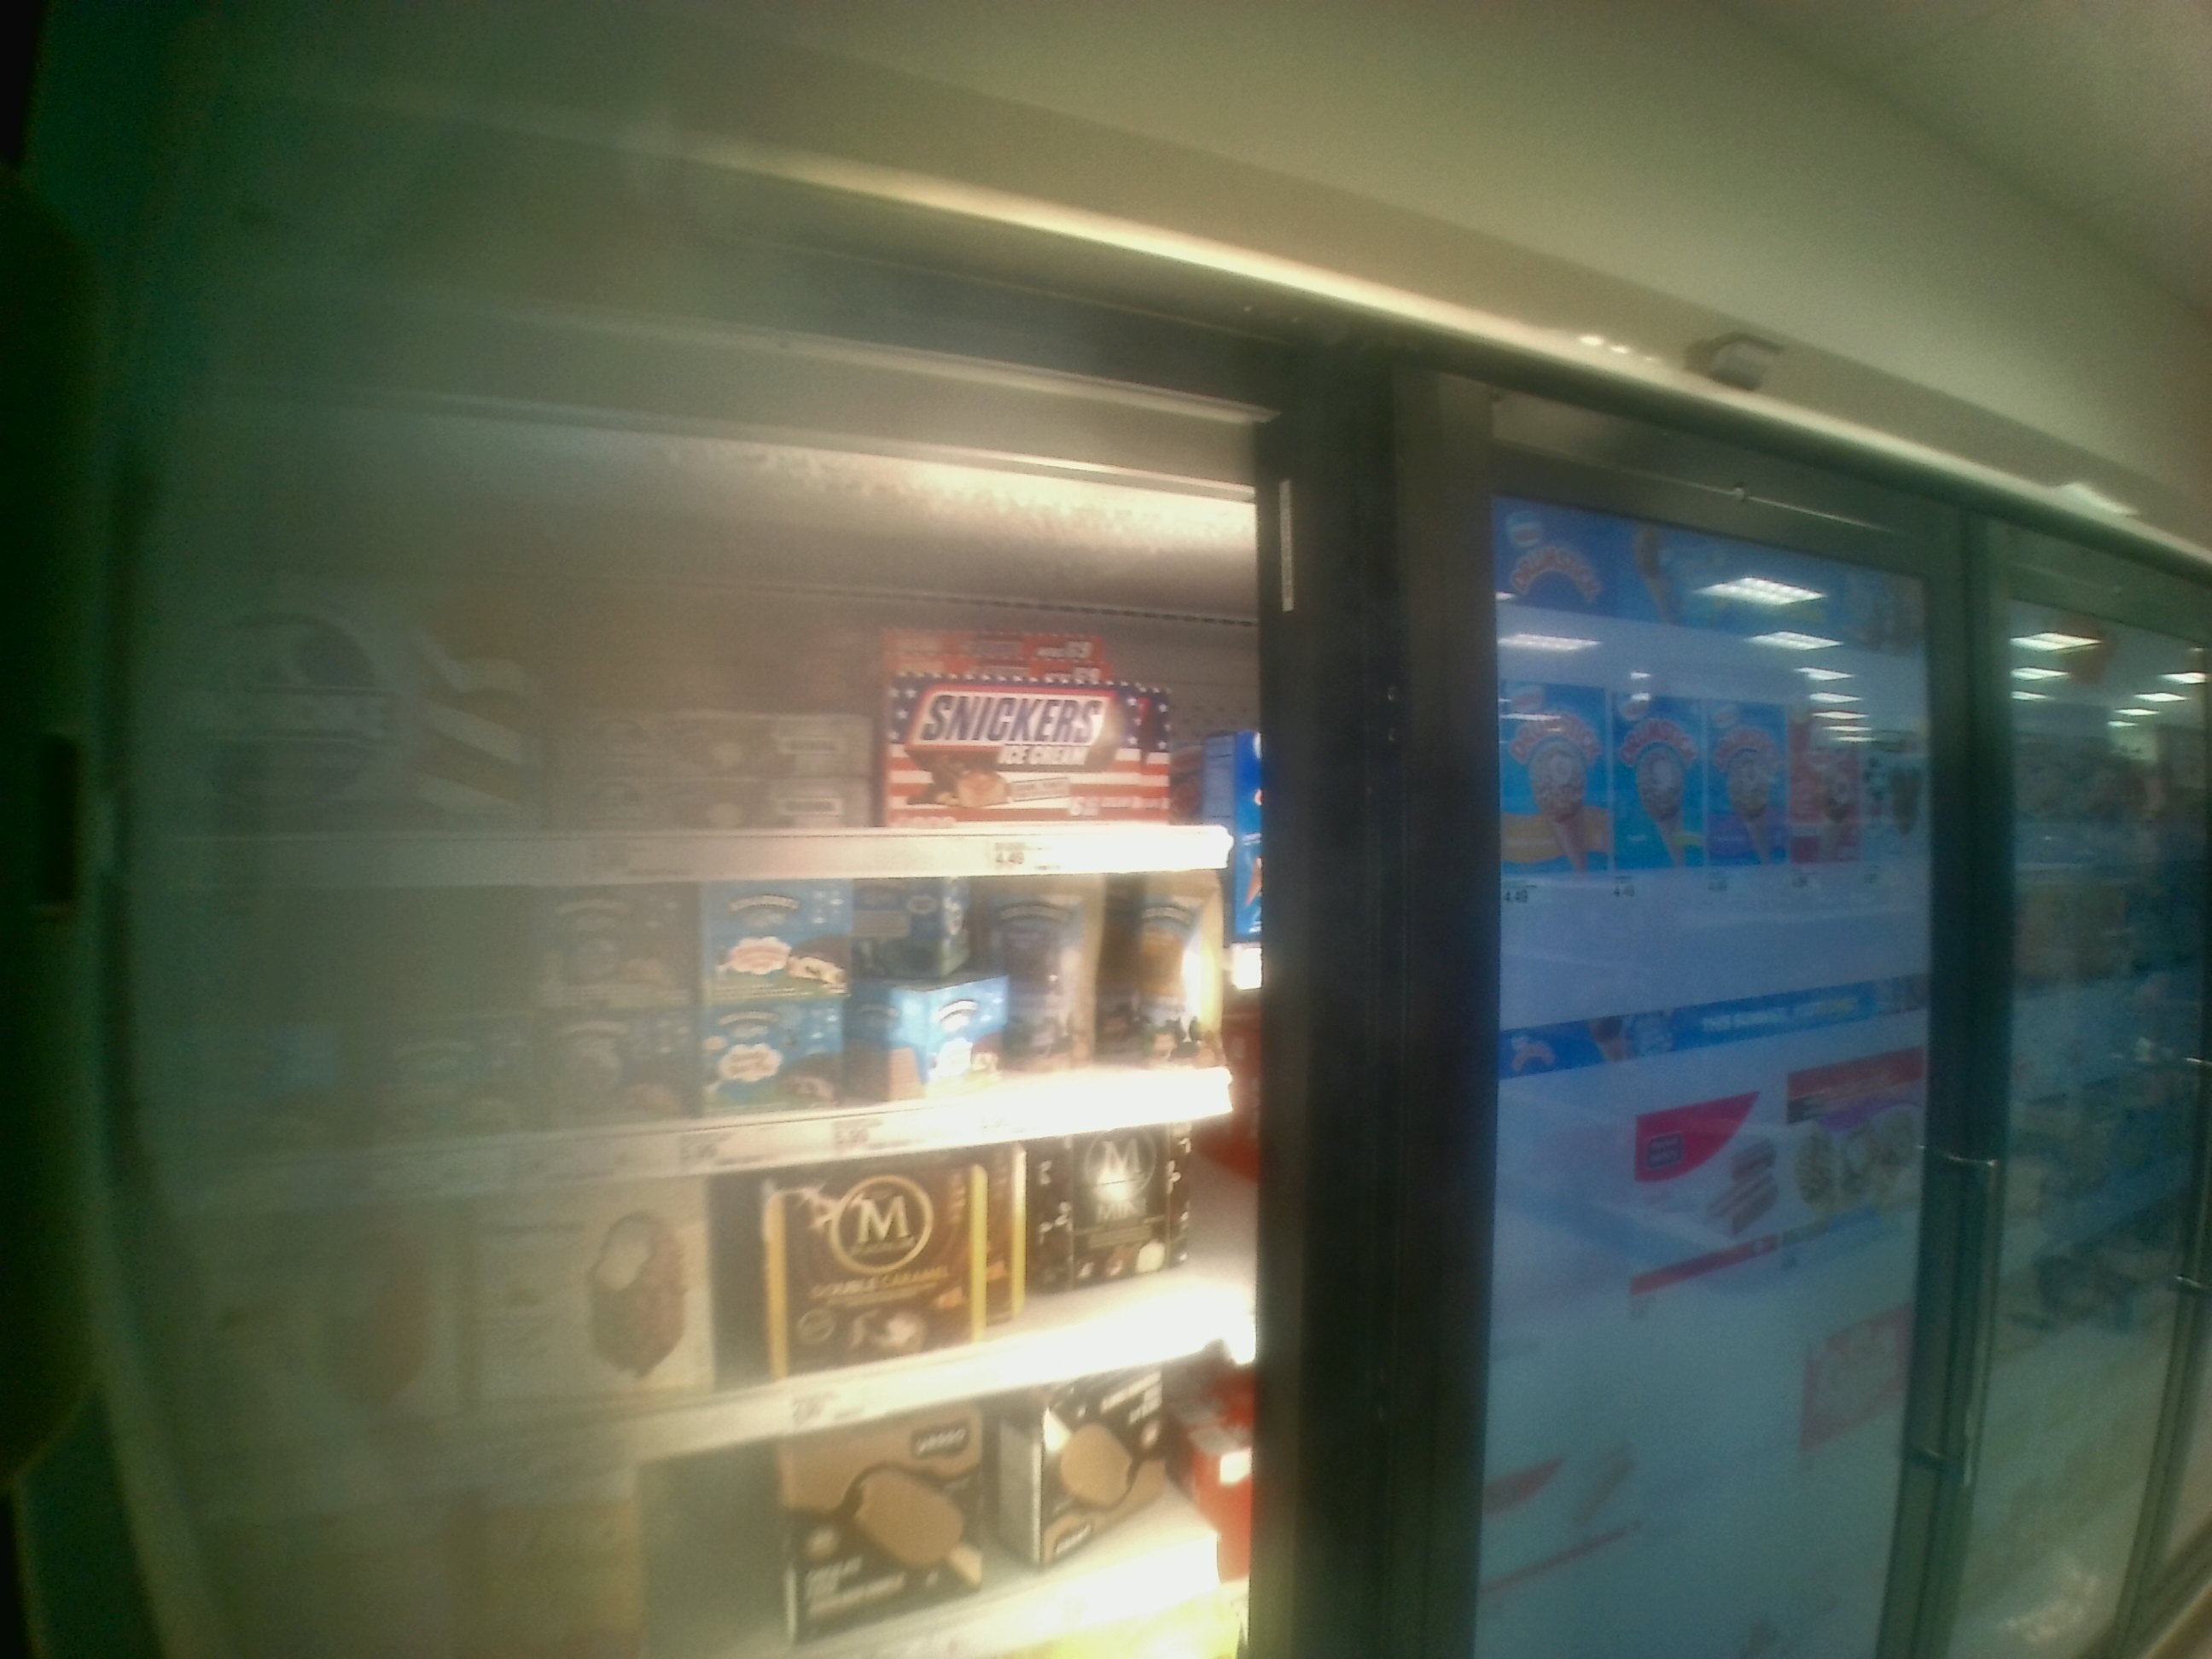shelf: (127, 486, 1259, 889), (127, 887, 1263, 1229)
